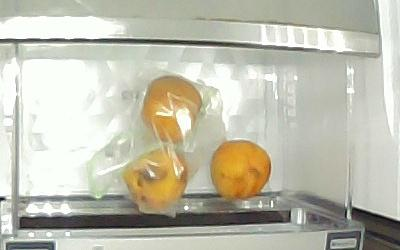peach: (209, 138, 271, 199)
peach_vinyl: (141, 75, 203, 144), (121, 147, 188, 206)
